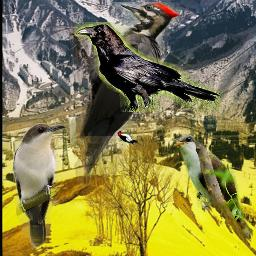Crow: (74, 22, 221, 112)
Cuckoo: (169, 134, 256, 239), (13, 123, 66, 249)
Woodpecker: (69, 2, 180, 185), (115, 128, 139, 146)
